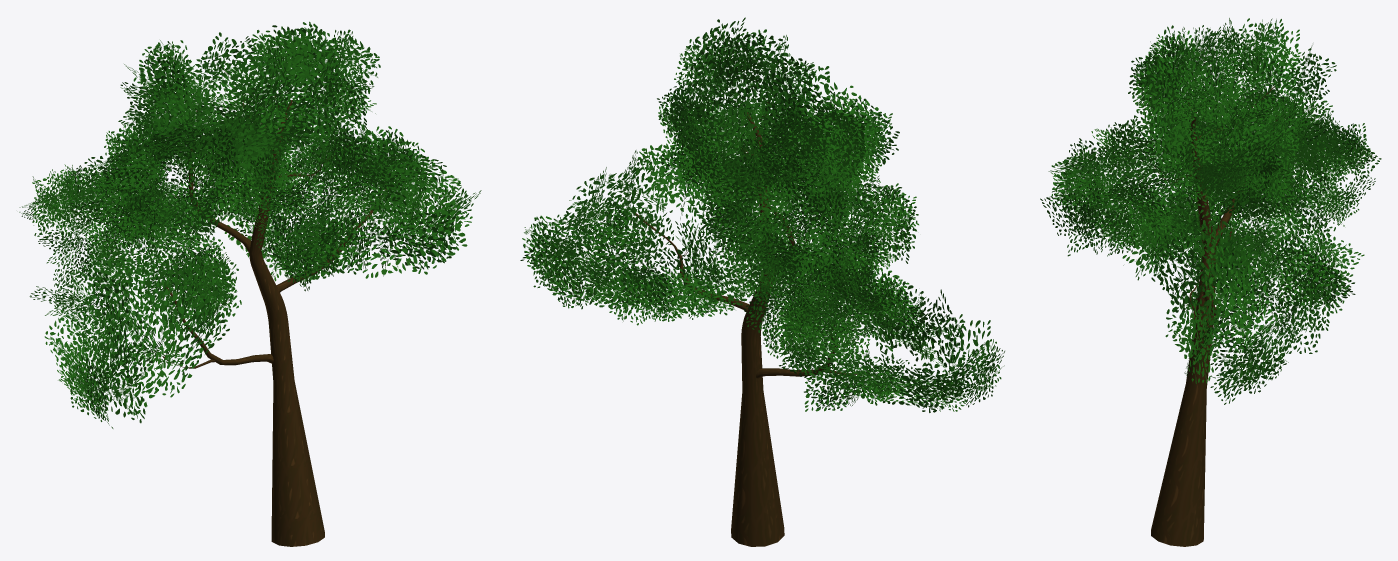
File: Cay 4-LOD 2.fbx
The picture shows the model from 3 angles, left to right: view 1: azimuth 30°, elevation 25°; view 2: azimuth 150°, elevation 25°; view 3: azimuth 270°, elevation 25°; orthographic projection.
Visible parts, largest first — view 1: LOD 0.005; view 2: LOD 0.005; view 3: LOD 0.005.
Part boxes in pixels (x1,y1,x2,y2): LOD 0.005: [19, 21, 481, 546]; LOD 0.005: [520, 17, 1004, 546]; LOD 0.005: [1040, 18, 1381, 546].
Bounding box in the file's own units: 951 × 1038 × 639.
